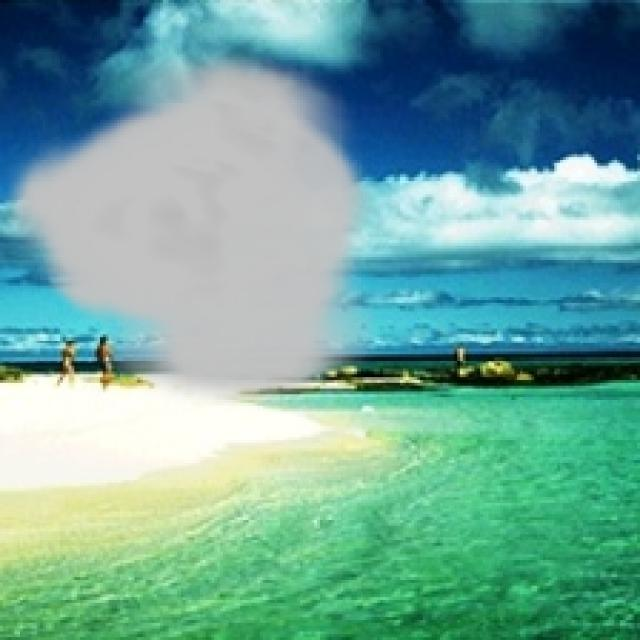smoke: (0, 43, 375, 407)
